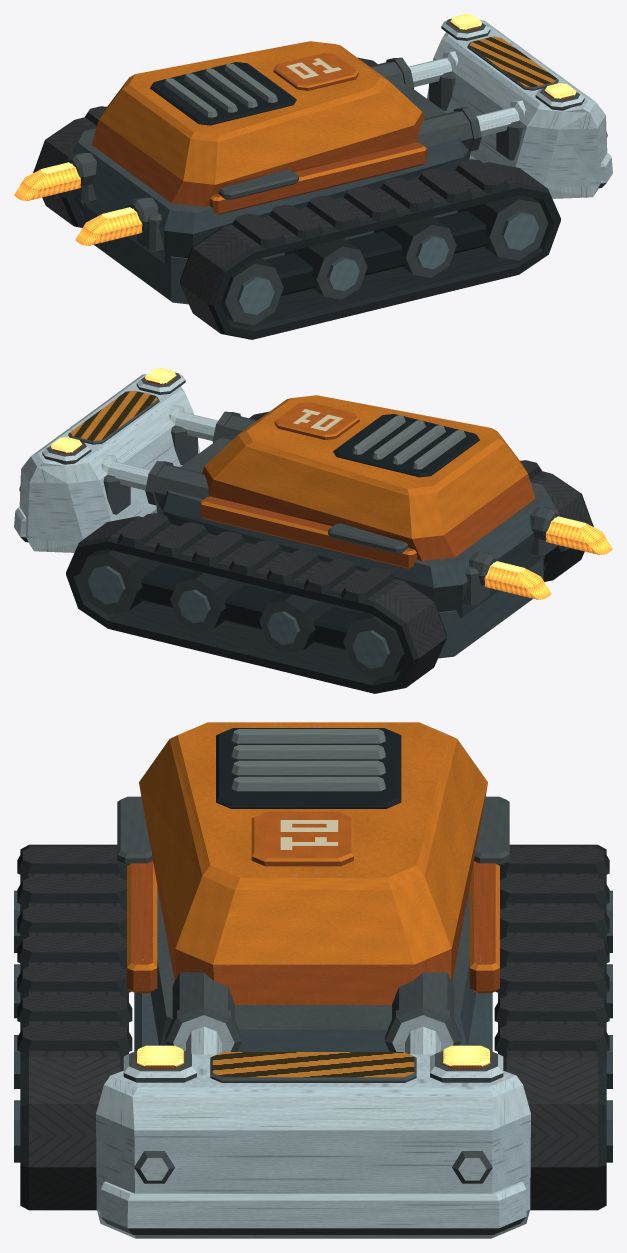
Rendered from charger-stage01.glb.
The picture shows the model from 3 angles, top to bottom: view 1: azimuth 30°, elevation 25°; view 2: azimuth 150°, elevation 25°; view 3: azimuth 270°, elevation 25°; orthographic projection. The views are drawn at different scales.
Parts seen in each view (by area): view 1: Chassis Mesh, TrackHousing Mesh, Ram Mesh, TrackLinks Mesh, Jets Mesh, RamSignal Mesh; view 2: Chassis Mesh, TrackHousing Mesh, Ram Mesh, TrackLinks Mesh, Jets Mesh, RamSignal Mesh; view 3: Chassis Mesh, Ram Mesh, TrackLinks Mesh, TrackHousing Mesh, RamSignal Mesh.
Part boxes in pixels (x1,y1,x2,y2): Chassis Mesh: (67, 41, 481, 263); TrackHousing Mesh: (33, 57, 560, 339); Ram Mesh: (409, 18, 612, 198); TrackLinks Mesh: (85, 106, 509, 248); Jets Mesh: (14, 162, 142, 245); RamSignal Mesh: (450, 14, 576, 98); Chassis Mesh: (145, 395, 559, 617); TrackHousing Mesh: (66, 411, 593, 693); Ram Mesh: (14, 372, 217, 552); TrackLinks Mesh: (117, 460, 541, 602); Jets Mesh: (484, 516, 612, 599); RamSignal Mesh: (50, 368, 176, 452); Chassis Mesh: (117, 722, 509, 1052); Ram Mesh: (96, 1026, 530, 1238); TrackLinks Mesh: (17, 847, 609, 1052); TrackHousing Mesh: (14, 844, 612, 1210); RamSignal Mesh: (137, 1045, 489, 1066).
Bounding box in the file's own units: 35.9 × 11.88 × 22.58.
Materials: 1 (1 with a texture image).
